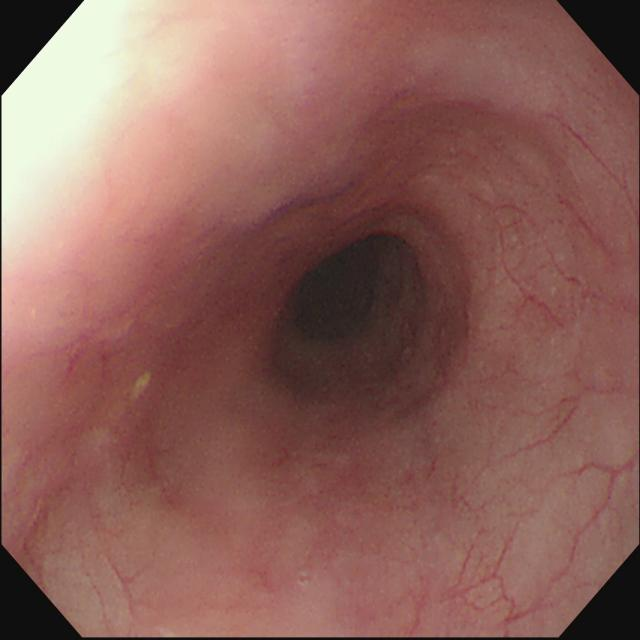A: (405, 295, 467, 399)
E: (295, 243, 383, 342)
